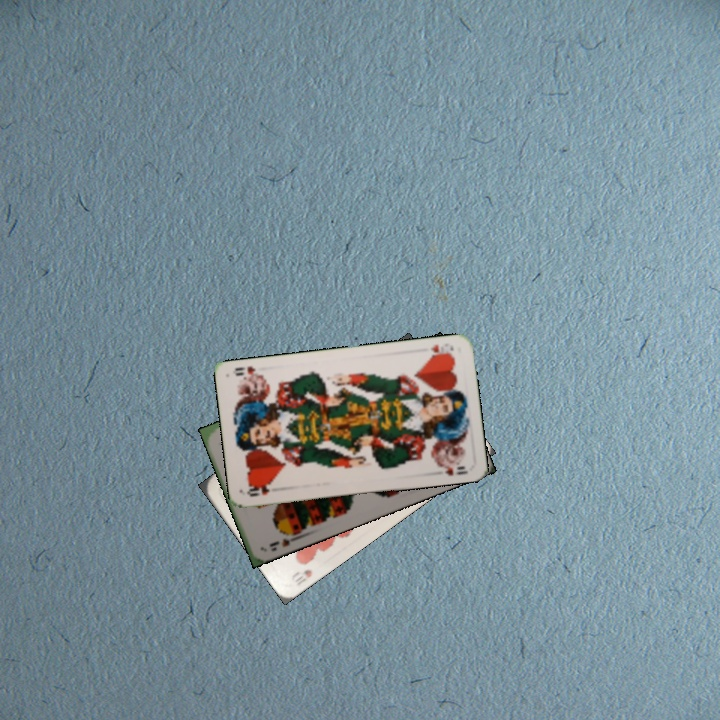H10: (287, 565, 315, 583)
HO: (425, 340, 456, 360), (243, 481, 274, 499)
S9: (265, 530, 302, 550)
